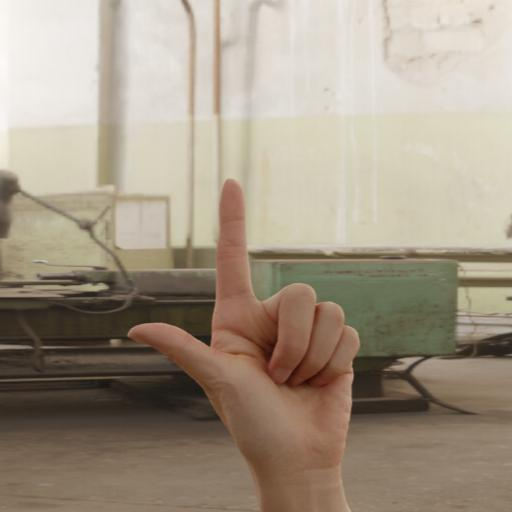L: (49, 144, 423, 512)
